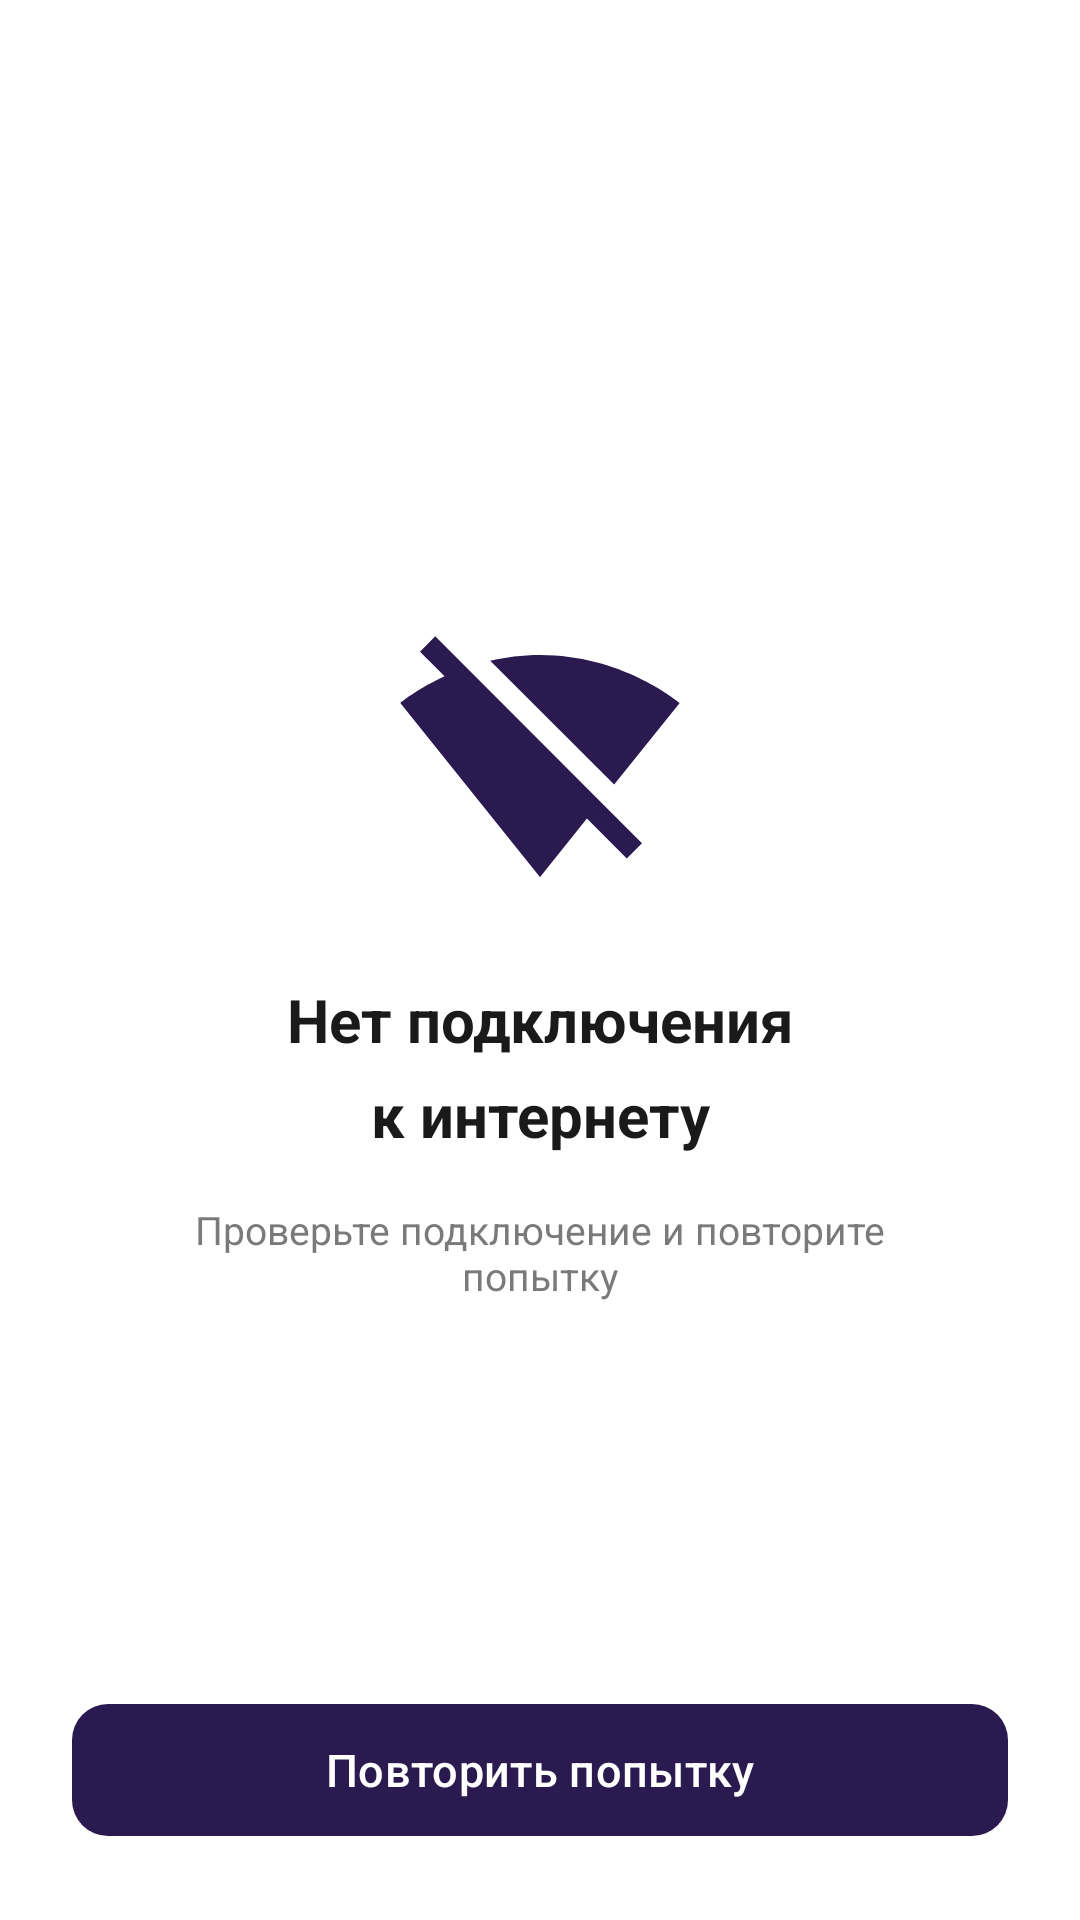

Named icons in this screenshot (1080 x 1920) and their bounding boxes, {"x1": x1, "y1": y1, "x2": x2, "y2": y2}:
Нет соединения: {"x1": 400, "y1": 636, "x2": 680, "y2": 877}
